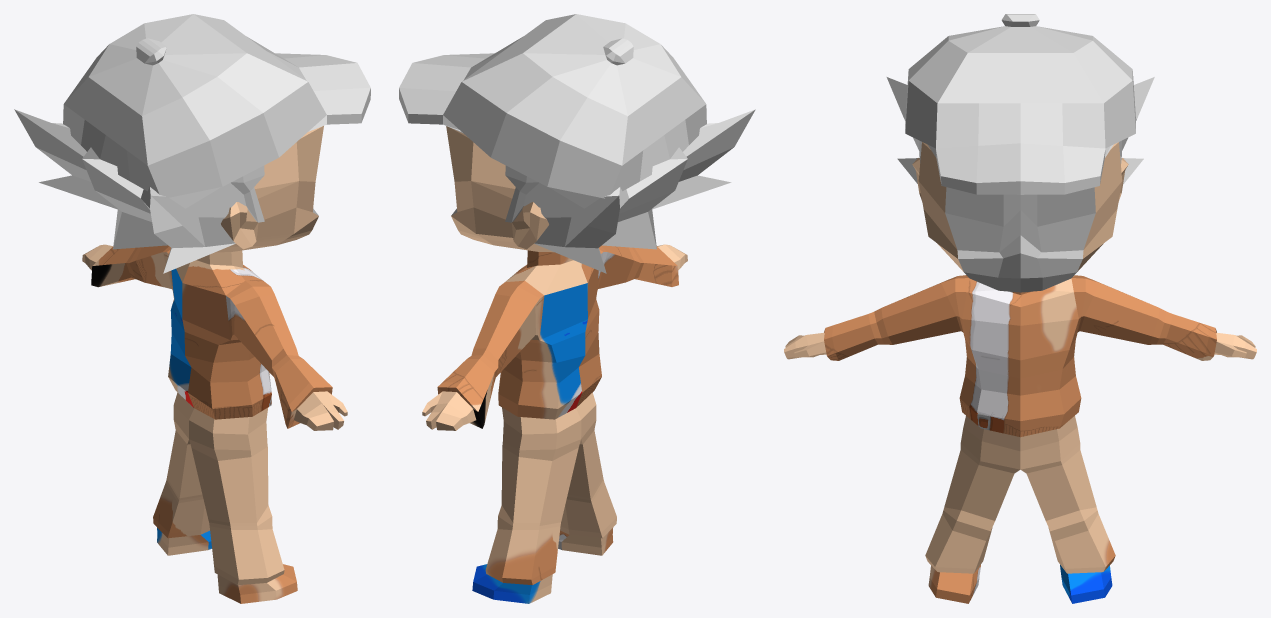
Rendered from Character_Cloth.fbx.
3 renders of one model, left to right at view 1: azimuth 30°, elevation 25°; view 2: azimuth 150°, elevation 25°; view 3: azimuth 270°, elevation 25°, orthographic.
Visible parts, largest first — view 1: Char_Body, Cube.001, Cube; view 2: Char_Body, Cube.001, Cube; view 3: Char_Body, Cube.001, Char_Eyes, Char_Mouth, Cube.
Part boxes in pixels (x1,y1,x2,y2): Char_Body: [82, 126, 347, 603]; Cube.001: [63, 14, 370, 198]; Cube: [14, 109, 264, 273]; Char_Body: [422, 126, 687, 603]; Cube.001: [399, 14, 706, 198]; Cube: [505, 109, 755, 273]; Char_Body: [784, 142, 1256, 603]; Cube.001: [905, 14, 1135, 194]; Char_Eyes: [945, 187, 1095, 252]; Char_Mouth: [957, 235, 1083, 292]; Cube: [886, 77, 1154, 184].
Size of the model in its own units: 169 by 317 by 254.
